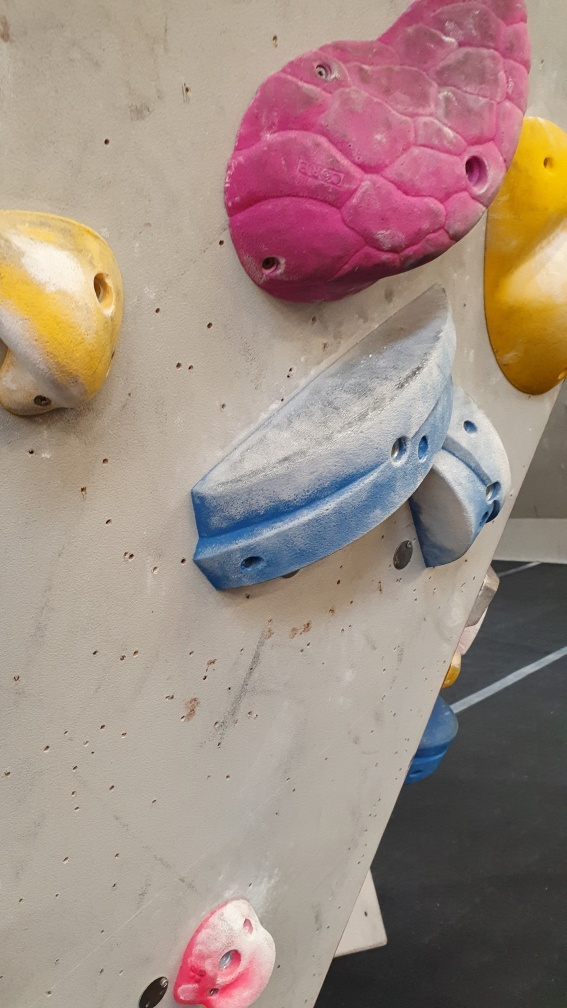Hand Start: (388, 535, 417, 576), (139, 975, 171, 1005)
Jug: (177, 894, 281, 1007)
Pinch: (190, 285, 459, 595), (405, 384, 512, 573), (406, 696, 460, 781)
